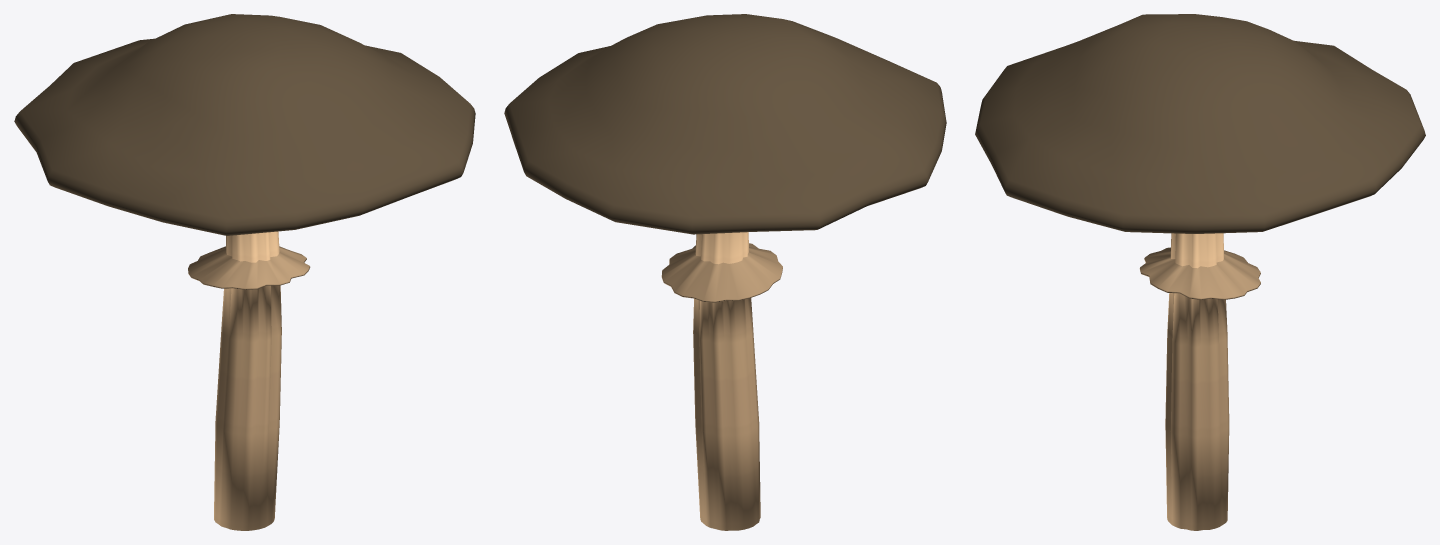
Rendered from giant-mushroom-01.fbx.
3 views of the same model, side by side, from view 1: azimuth 30°, elevation 25°; view 2: azimuth 150°, elevation 25°; view 3: azimuth 270°, elevation 25° (orthographic).
Visible parts, largest first — view 1: mushroom; view 2: mushroom; view 3: mushroom.
Boxes of the visible parts, x1,y1,x2,y2 form: mushroom: (14, 14, 475, 530); mushroom: (504, 14, 946, 530); mushroom: (975, 14, 1425, 530).
Size of the model in its own units: 1302 by 1518 by 1281.
